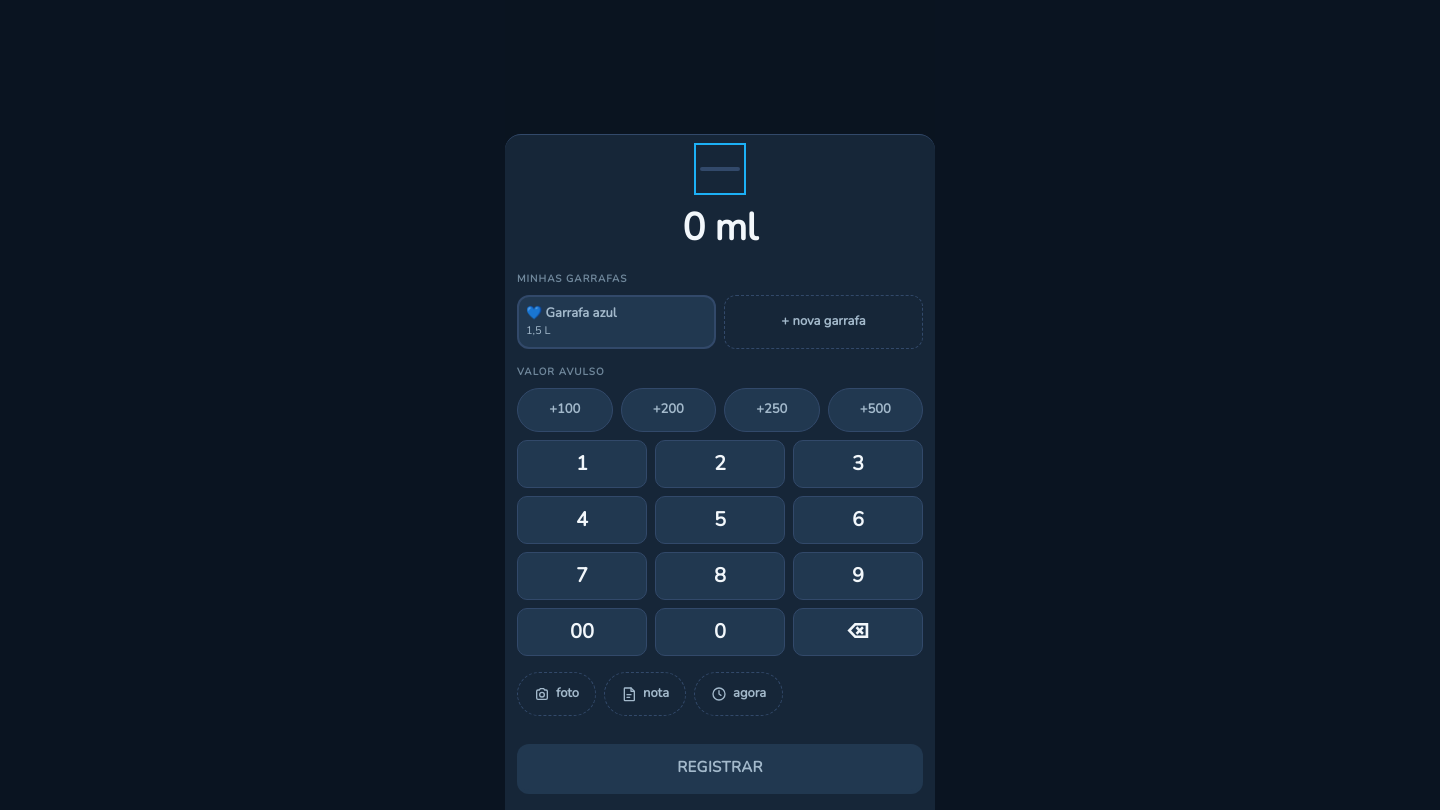
RegisterSheet › surfaces a toast and keeps the form open when creating a bottle fails
Click the button "+ nova garrafa".
click(824, 322)  # box [724,294,923,348]
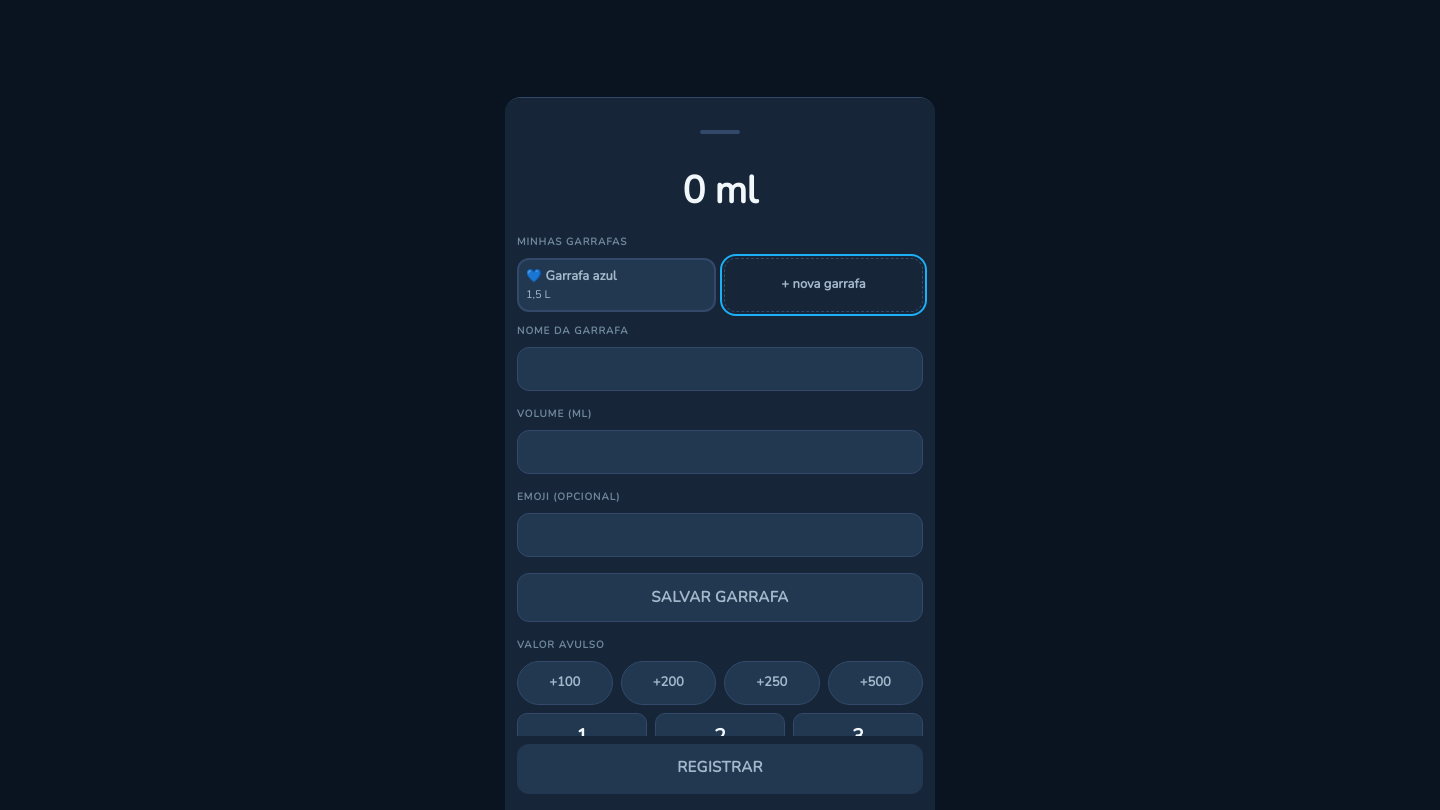
Type "Copo" into the field labelled "Nome da garrafa".
click(720, 369); type("Copo")  # box [517,347,923,391]
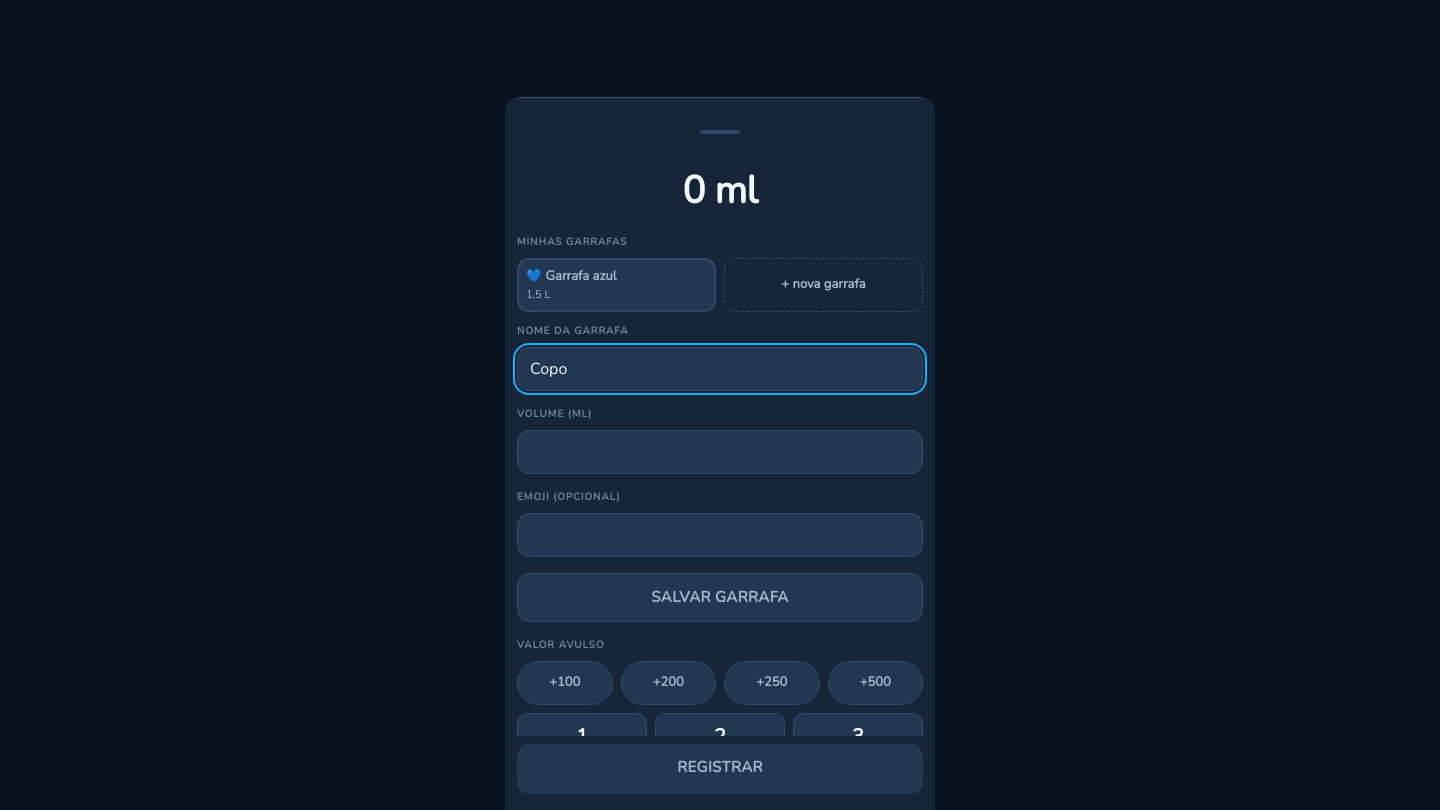
Type "300" into the field labelled "Volume (ml)".
click(720, 452); type("300")  # box [517,430,923,474]
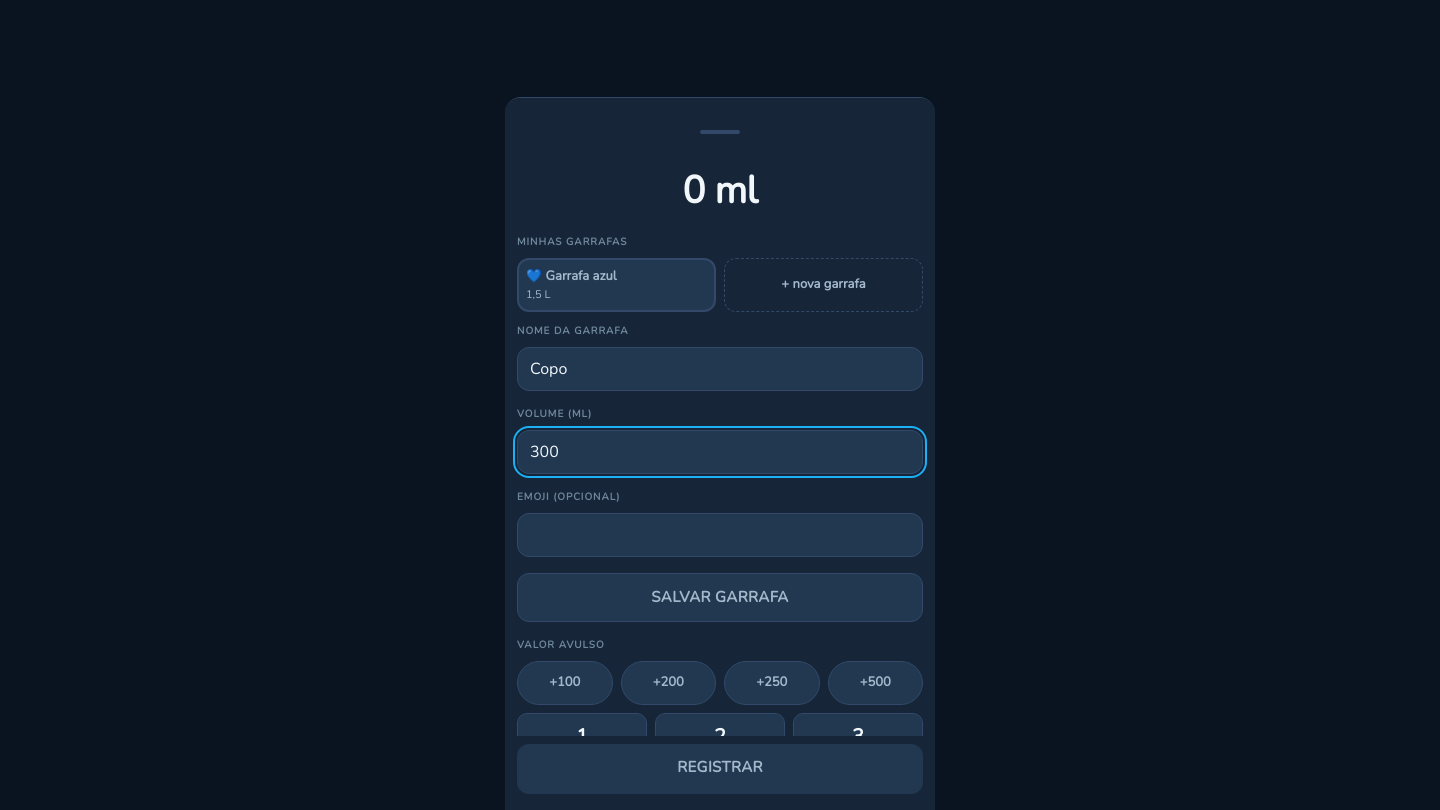
Click the button "Salvar garrafa".
click(720, 597)  # box [517,573,923,622]
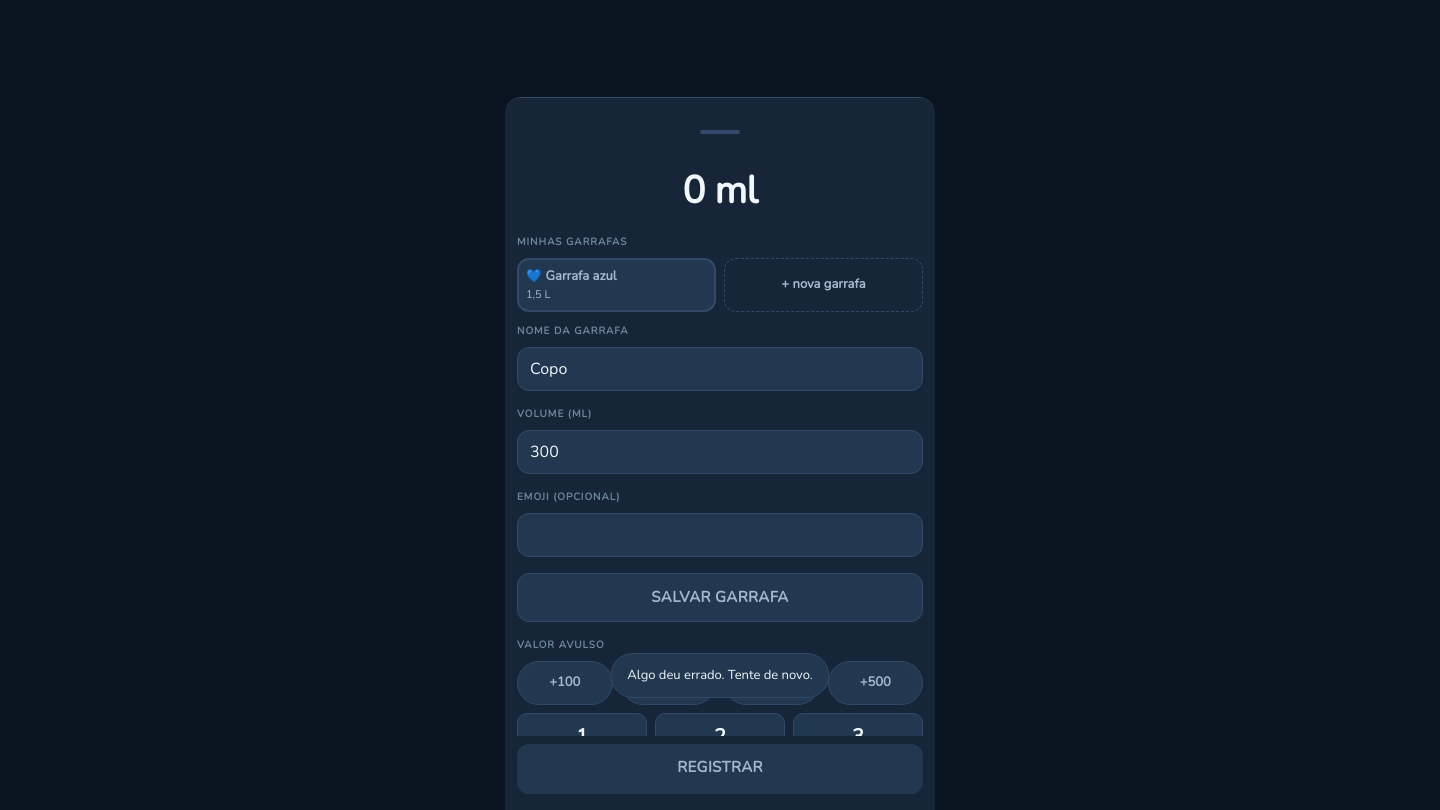
Expected: the message reads "Algo deu errado. Tente de novo.", [627,666,813,684]
